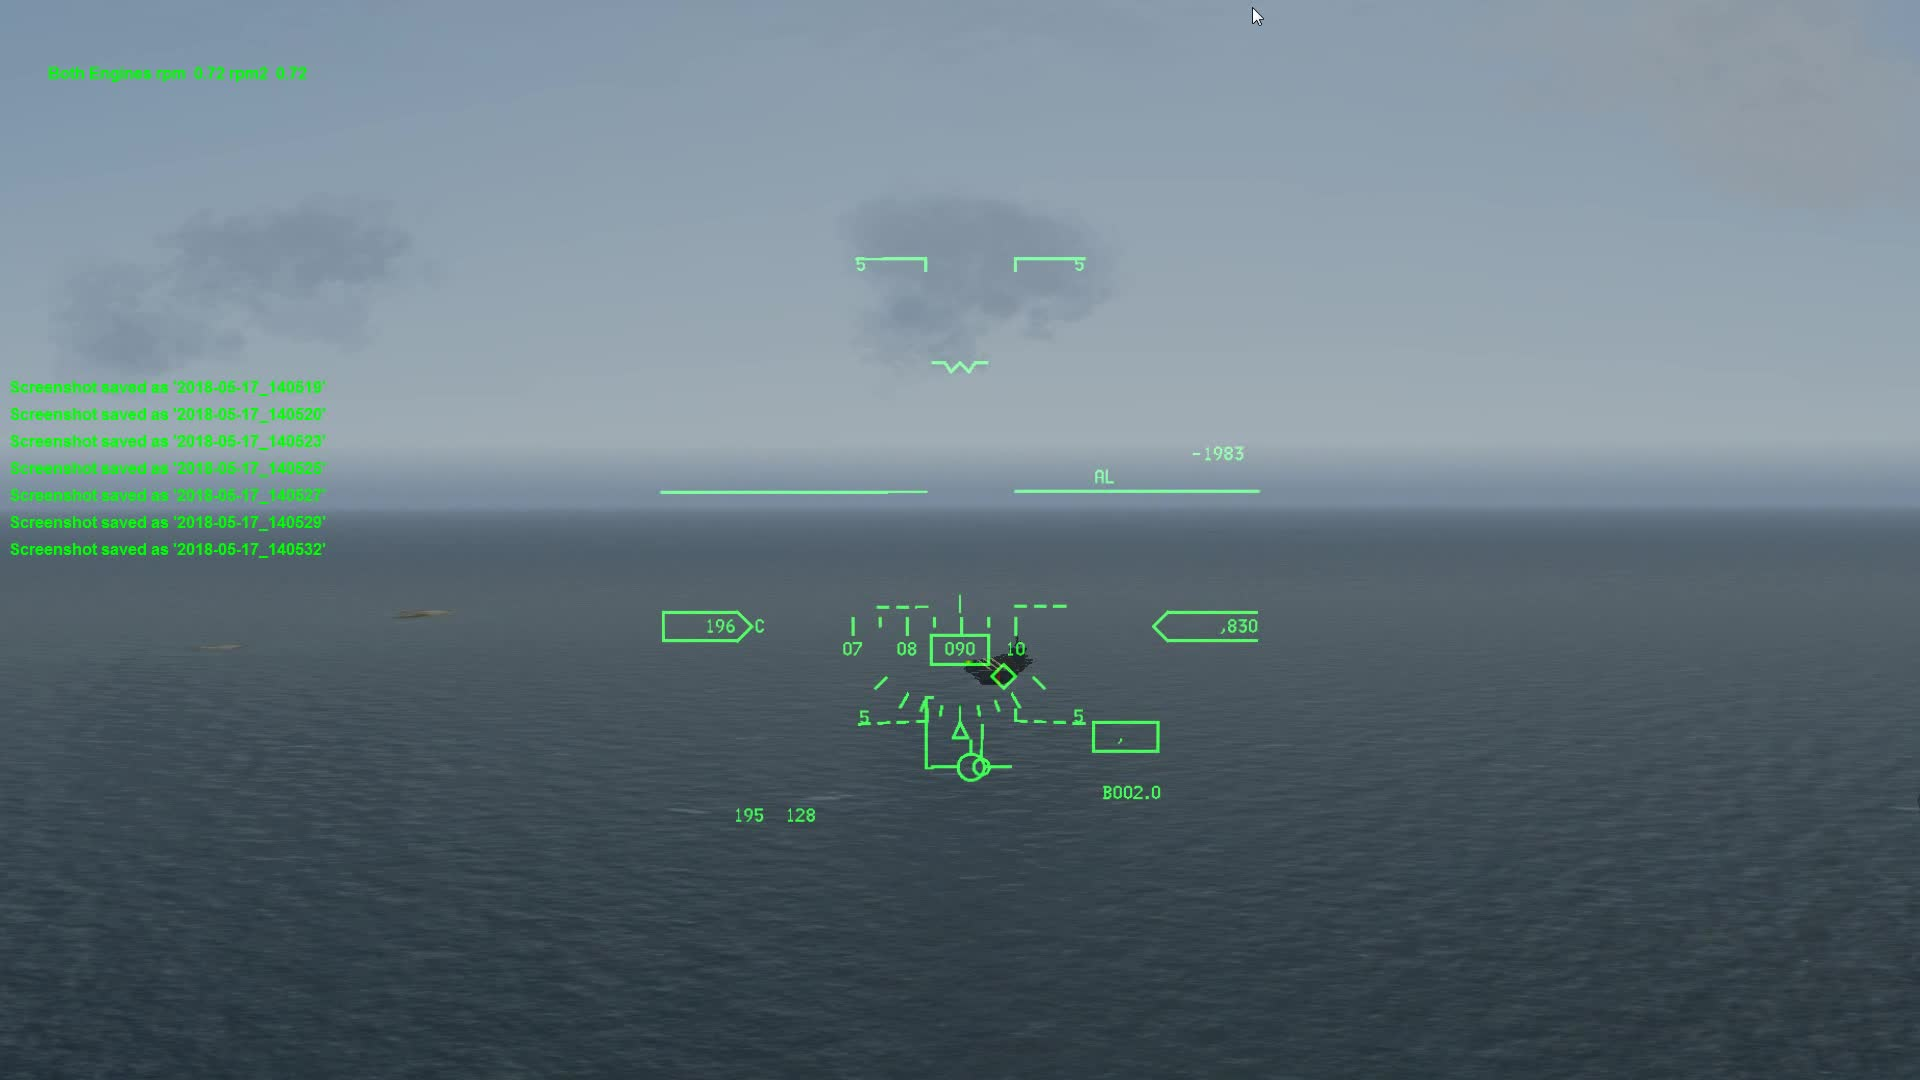speed vector: (928, 746, 1015, 785)
